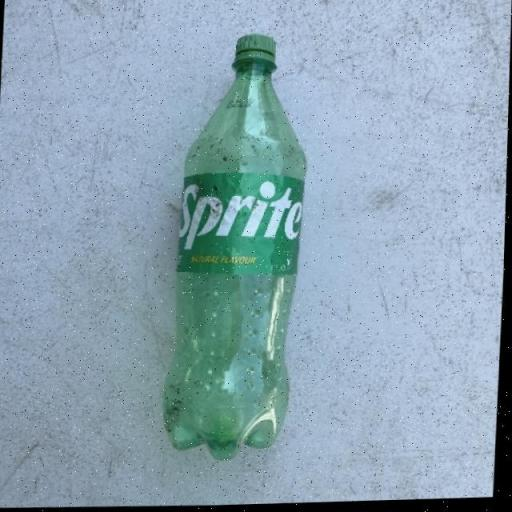plastic: (162, 32, 312, 464)
